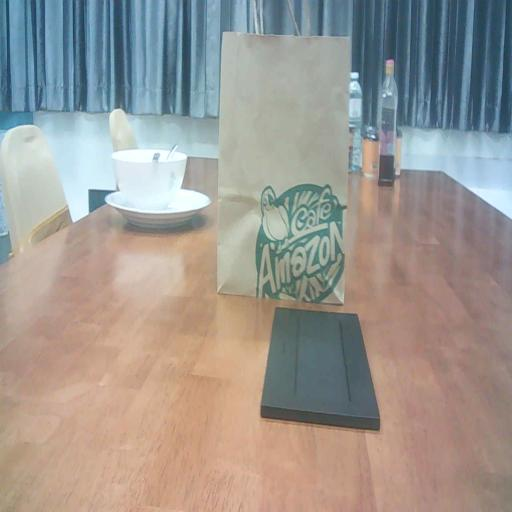bag: (212, 26, 353, 313)
